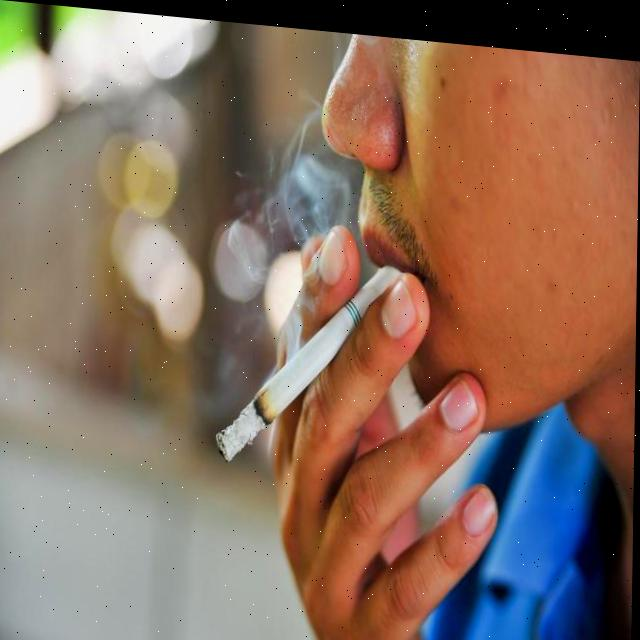cigarette: (220, 247, 400, 469)
